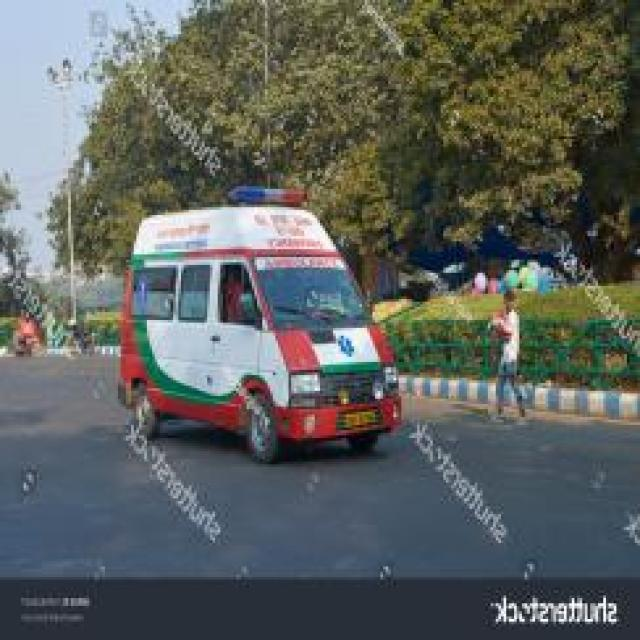Ambulance: (0, 346, 637, 579), (113, 183, 404, 464), (482, 286, 532, 428)
